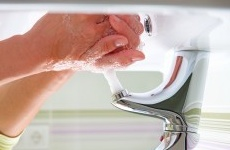washing hand: (19, 13, 177, 139)
